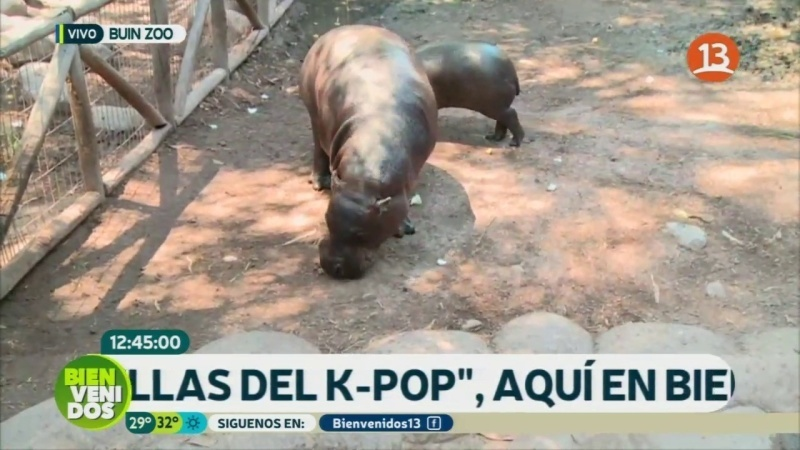hipopotamo: (282, 11, 444, 293), (392, 24, 551, 160)
